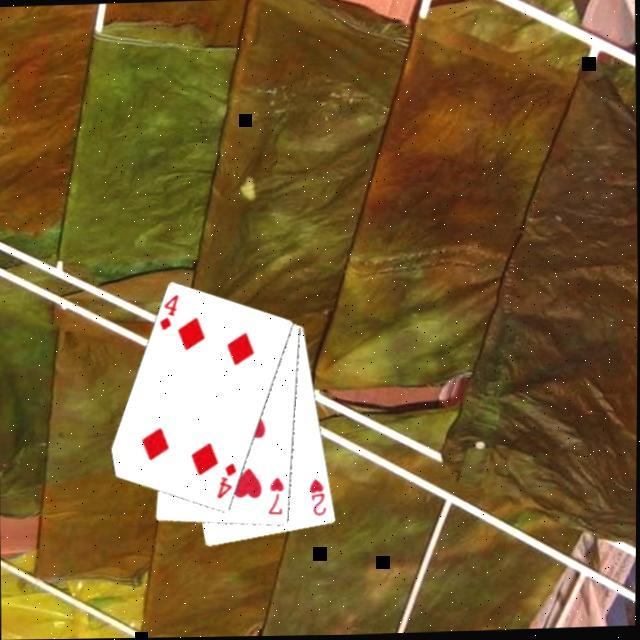2H: (305, 477, 328, 520)
4D: (213, 461, 239, 502), (155, 293, 181, 334)
7H: (264, 475, 287, 518)
